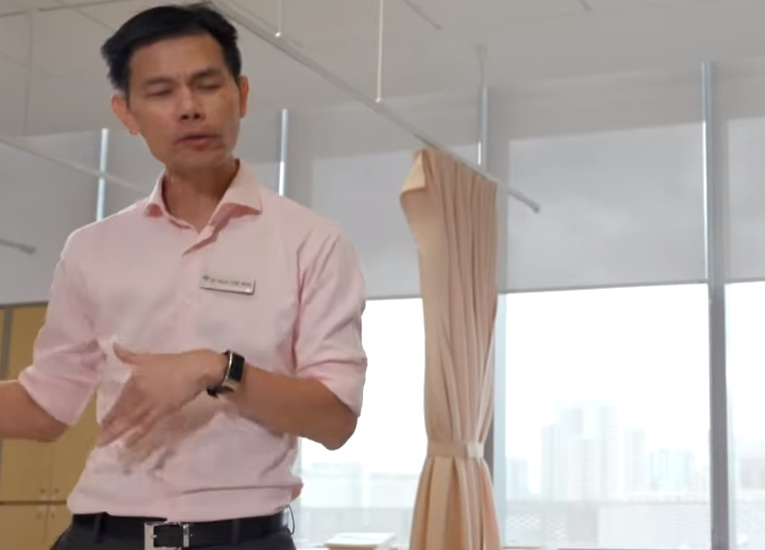mouth: (171, 130, 222, 148)
nose: (173, 102, 207, 123)
